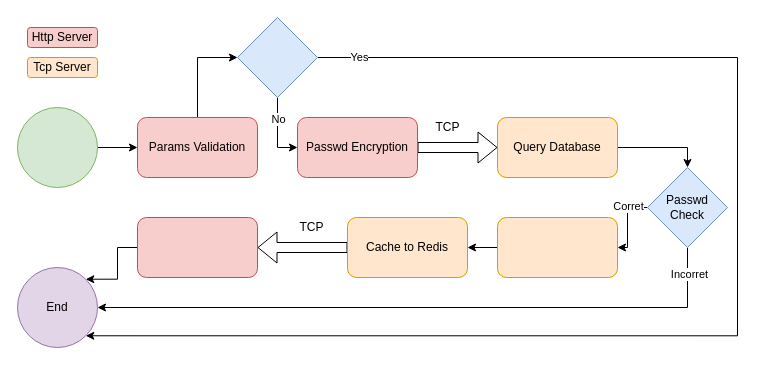
Some shapes in this 763 by 365 pixel diagram are drawn without their labels. Here are the shapes that lost their labels. From the top down, the centre of each, then its label:
[277,57]: Params Error?
[57,147]: Start
[197,247]: Return Token
[557,247]: Generate Token
